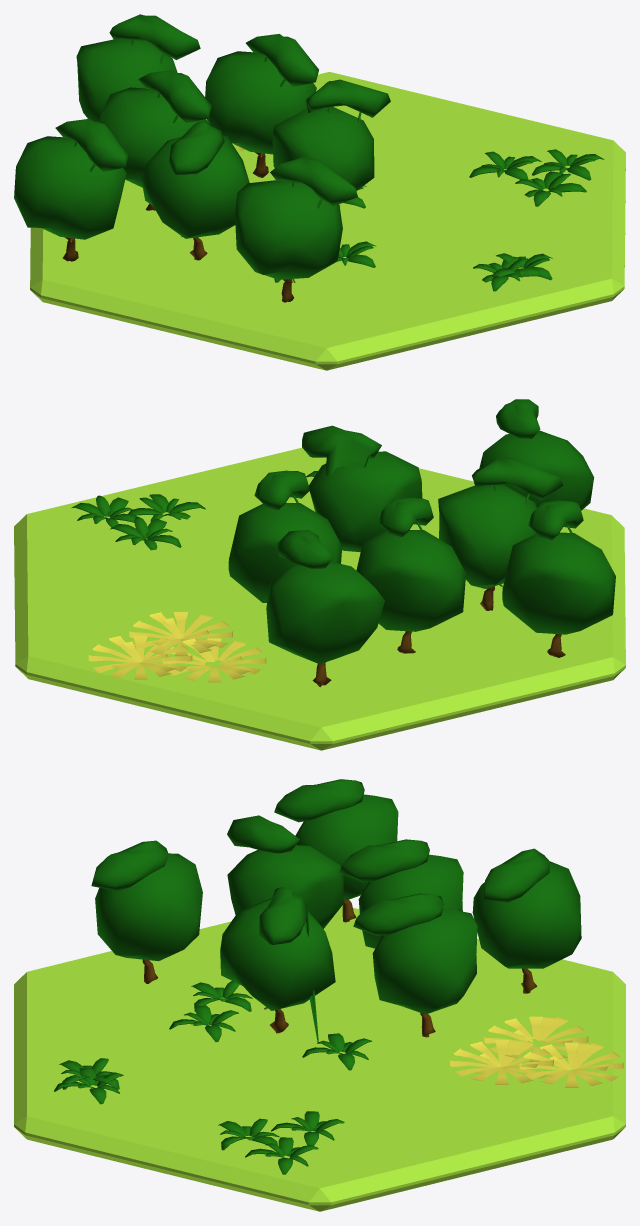
The model's file is hexagonnormiertblend.fbx.
3 views of the same model, one above another, from view 1: azimuth 30°, elevation 25°; view 2: azimuth 150°, elevation 25°; view 3: azimuth 270°, elevation 25° (orthographic). The views are drawn at different scales.
Visible parts, largest first — view 1: Cylinder.001; view 2: Cylinder.001; view 3: Cylinder.001.
Boxes of the visible parts, x1,y1,x2,y2 form: Cylinder.001: [14, 14, 625, 370]; Cylinder.001: [14, 399, 625, 750]; Cylinder.001: [14, 779, 625, 1211].
Bounding box in the file's own units: 460 × 123 × 398.
